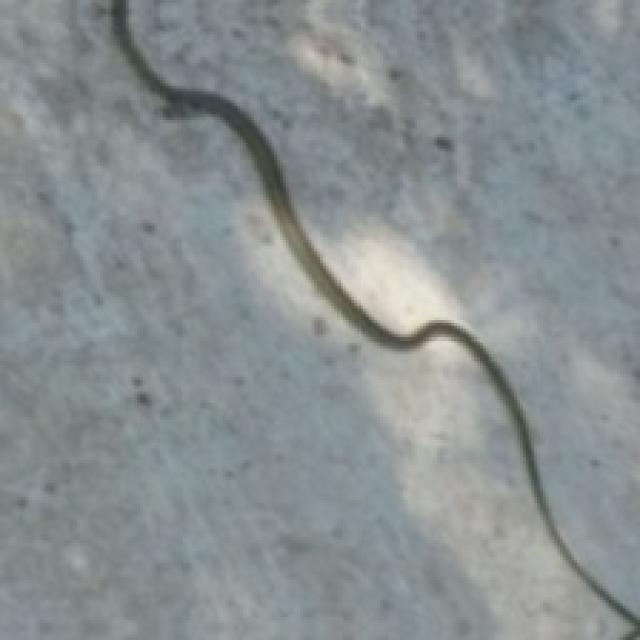philippine bronzeback treesnake: (111, 0, 637, 637)
